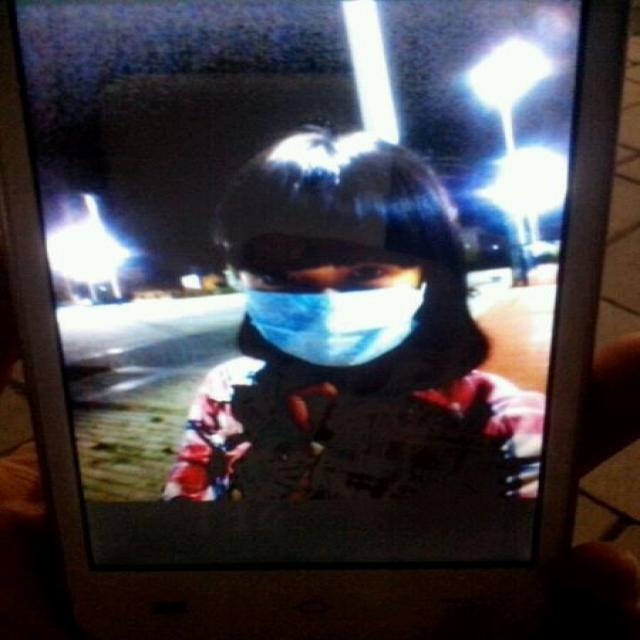mask: (252, 208, 414, 366)
